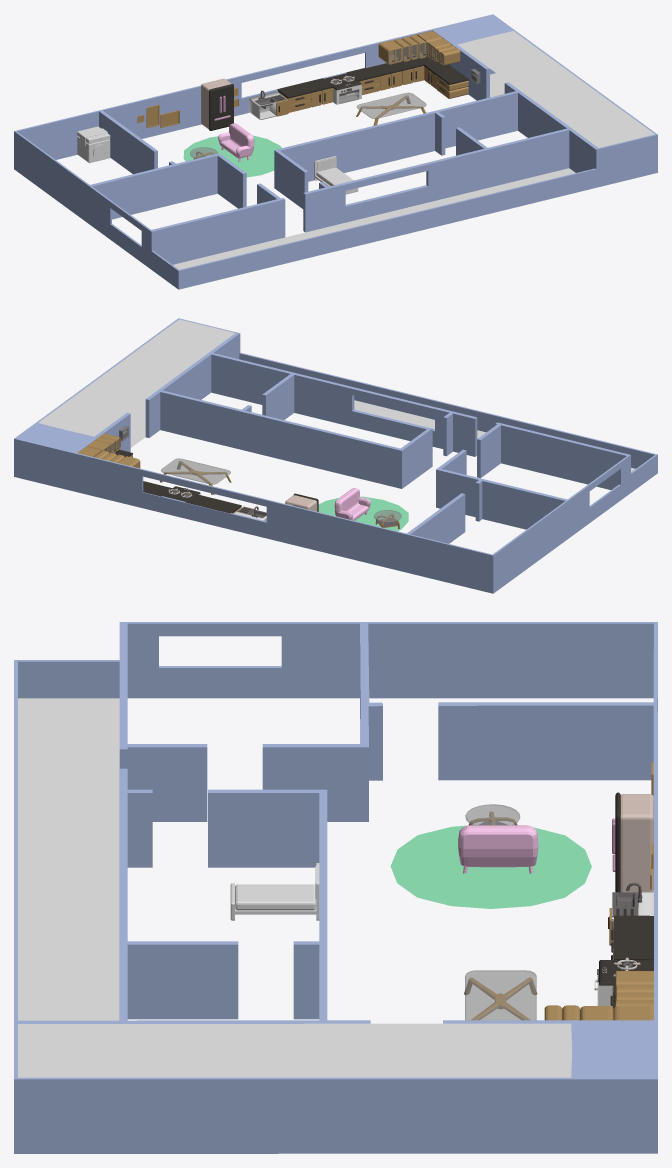
File: walls2.fbx
3 renders of one model, top to bottom at view 1: azimuth 30°, elevation 25°; view 2: azimuth 150°, elevation 25°; view 3: azimuth 270°, elevation 25°, orthographic. The views are drawn at different scales.
Visible parts, largest first — view 1: walls rooms.001, lift area.ceeling.001, balcony.001, carpet.001, table yop.001, Cube.055, Cube.057, CABINET.002, lower shelf.004 counter.004, lower shelf.004 counter.005, lower shelf.004 counter.007, fridge real.008 (+2 smaller); view 2: walls rooms.001, lift area.ceeling.001, carpet.001, table yop.001, balcony.001, Cube.055, lift area.001, lower shelf.004 counter.004; view 3: walls rooms.001, balcony.001, lift area.ceeling.001, carpet.001, table yop.001, Cube.055, fridge real.008, Cube.050, lower shelf.004 counter.004, Circle.017, Cube.054, CABINET.002 (+1 smaller).
Part boxes in pixels (x1,y1,x2,y2): walls rooms.001: [14, 14, 657, 289]; lift area.ceeling.001: [457, 31, 654, 147]; balcony.001: [173, 168, 575, 269]; carpet.001: [183, 135, 281, 177]; table yop.001: [357, 92, 426, 118]; Cube.055: [218, 123, 254, 162]; Cube.057: [77, 126, 110, 163]; CABINET.002: [249, 91, 287, 119]; lower shelf.004 counter.004: [277, 78, 333, 98]; lower shelf.004 counter.005: [346, 63, 402, 81]; lower shelf.004 counter.007: [423, 61, 468, 84]; fridge real.008: [201, 78, 231, 129]; walls rooms.001: [14, 318, 657, 593]; lift area.ceeling.001: [38, 319, 235, 436]; carpet.001: [318, 496, 408, 531]; table yop.001: [161, 458, 230, 484]; balcony.001: [354, 400, 635, 471]; Cube.055: [334, 488, 370, 520]; lift area.001: [127, 399, 145, 447]; lower shelf.004 counter.004: [185, 494, 241, 513]; walls rooms.001: [14, 622, 657, 1153]; balcony.001: [18, 698, 119, 1020]; lift area.ceeling.001: [18, 1023, 572, 1077]; carpet.001: [390, 825, 591, 908]; table yop.001: [465, 970, 536, 1020]; Cube.055: [458, 825, 538, 873]; fridge real.008: [620, 794, 653, 892]; Cube.050: [235, 884, 315, 910]; lower shelf.004 counter.004: [613, 915, 653, 959]; Circle.017: [465, 804, 520, 825]; Cube.054: [464, 977, 537, 1020]; CABINET.002: [612, 892, 653, 942].
Size of the model in its own units: 9482 by 793 by 5642.
